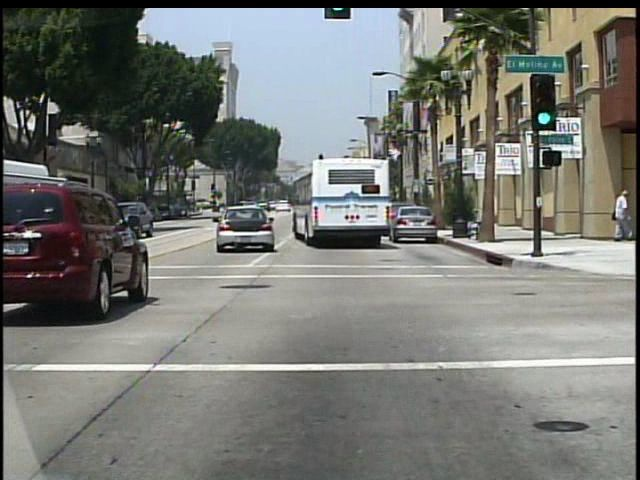person: (611, 189, 634, 243)
